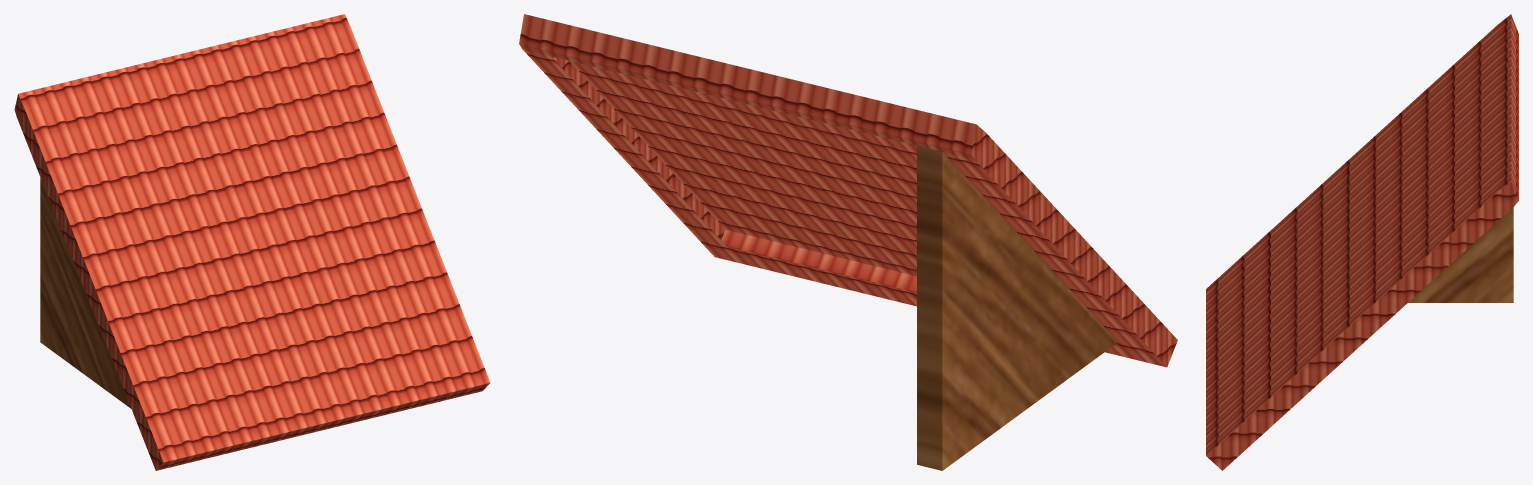
File: roof_left.fbx
3 renders of one model, left to right at view 1: azimuth 30°, elevation 25°; view 2: azimuth 150°, elevation 25°; view 3: azimuth 270°, elevation 25°, orthographic. The views are drawn at different scales.
Visible parts, largest first — view 1: Cube.027, Cube.028; view 2: Cube.027, Cube.028; view 3: Cube.027, Cube.028.
Part boxes in pixels (x1,y1,x2,y2): Cube.027: (14, 14, 490, 470); Cube.028: (40, 178, 131, 408); Cube.027: (519, 14, 1177, 367); Cube.028: (917, 145, 1117, 470); Cube.027: (1206, 14, 1518, 470); Cube.028: (1408, 207, 1513, 302).
Size of the model in its own units: 297 by 240 by 234.
2 materials, 2 textured.
